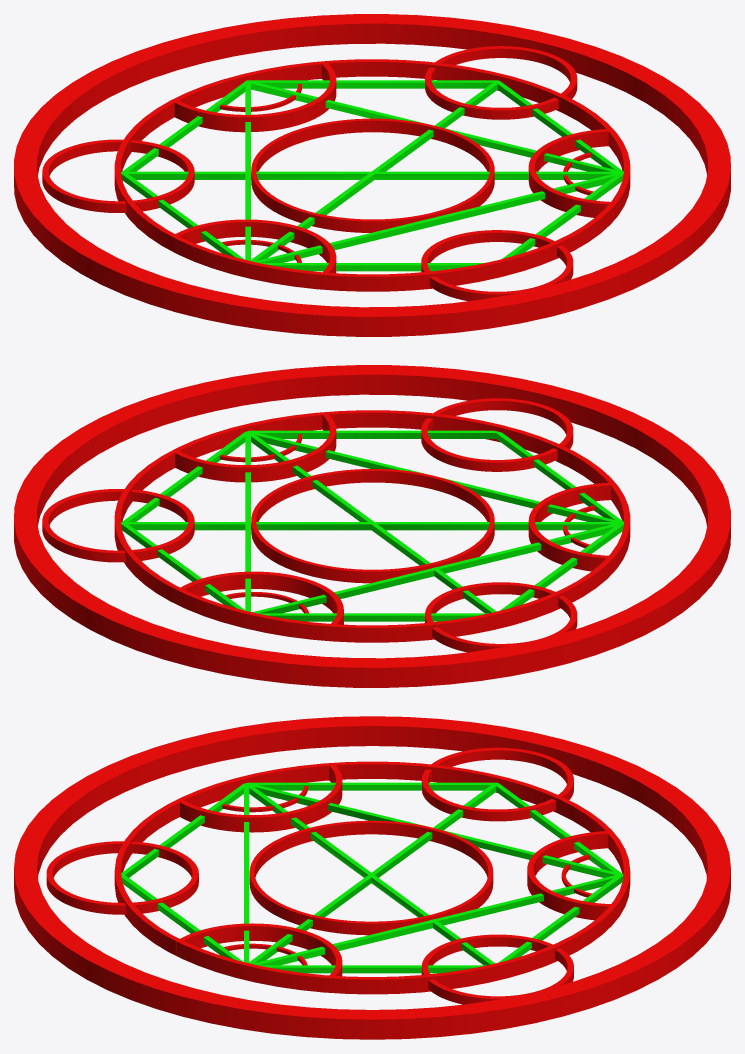
The model's file is Mesh_Sigil.FBX.
3 views of the same model, one above another, from view 1: azimuth 30°, elevation 25°; view 2: azimuth 150°, elevation 25°; view 3: azimuth 270°, elevation 25° (orthographic).
Parts seen in each view (by area): view 1: Circle002; view 2: Circle002; view 3: Circle002.
Part boxes in pixels (bbox=[...]): Circle002: bbox=[14, 14, 730, 336]; Circle002: bbox=[14, 365, 730, 687]; Circle002: bbox=[14, 716, 730, 1039].
Size of the model in its own units: 195 by 6 by 194.
